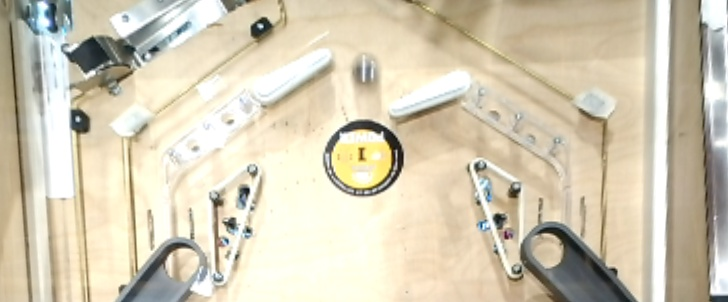ball: (350, 51, 383, 86)
flipper-left: (388, 67, 475, 125)
flipper-right: (252, 43, 335, 111)
